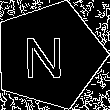N_N: (28, 30, 71, 81)
